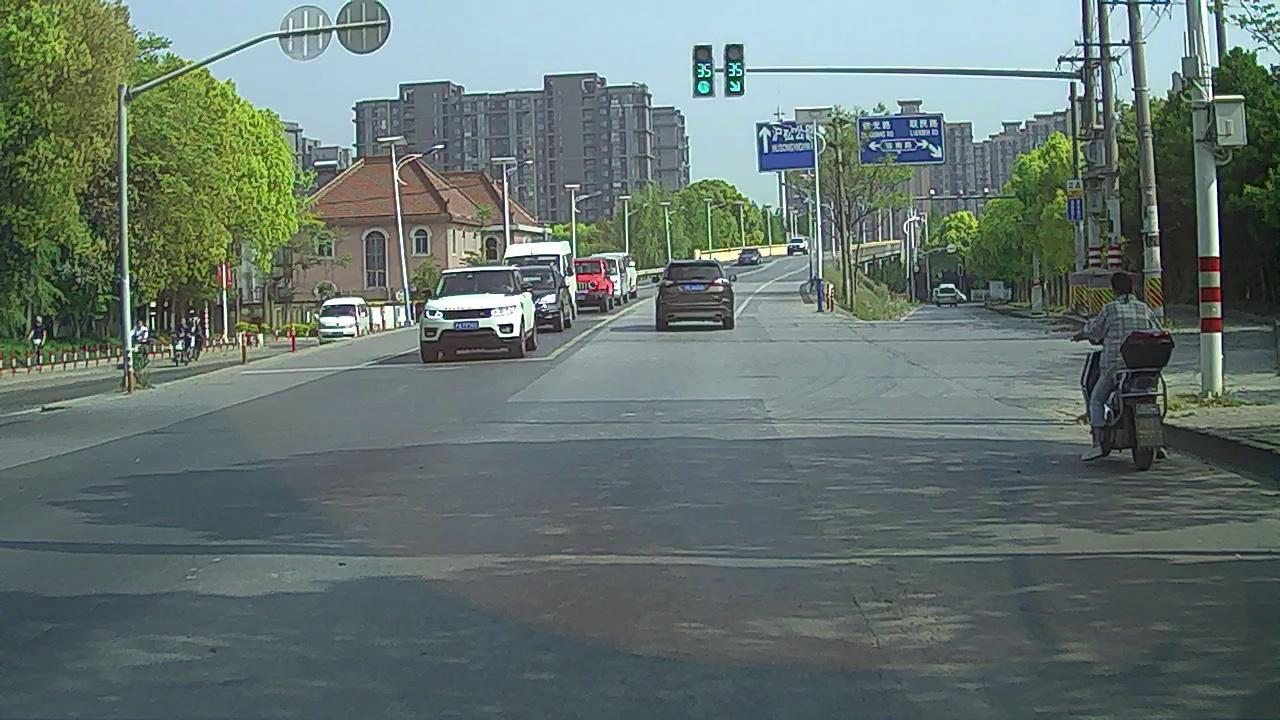traffic_light: (693, 45, 713, 96), (726, 43, 742, 95)
